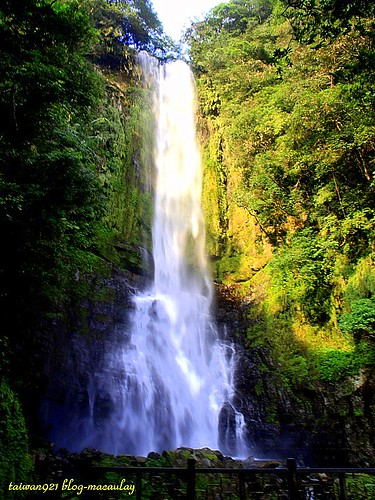wufengciWaterfall: (84, 40, 284, 440)
